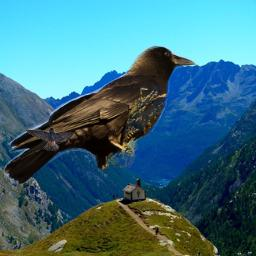Crow: (4, 41, 199, 190)
Swallow: (24, 127, 75, 151)
